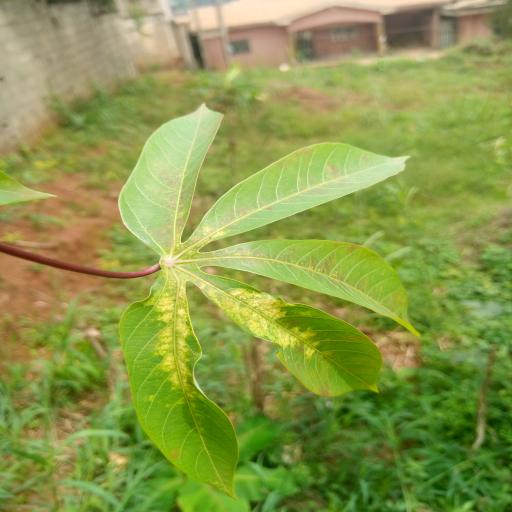Cassava_Mosaic: (124, 102, 420, 498)
